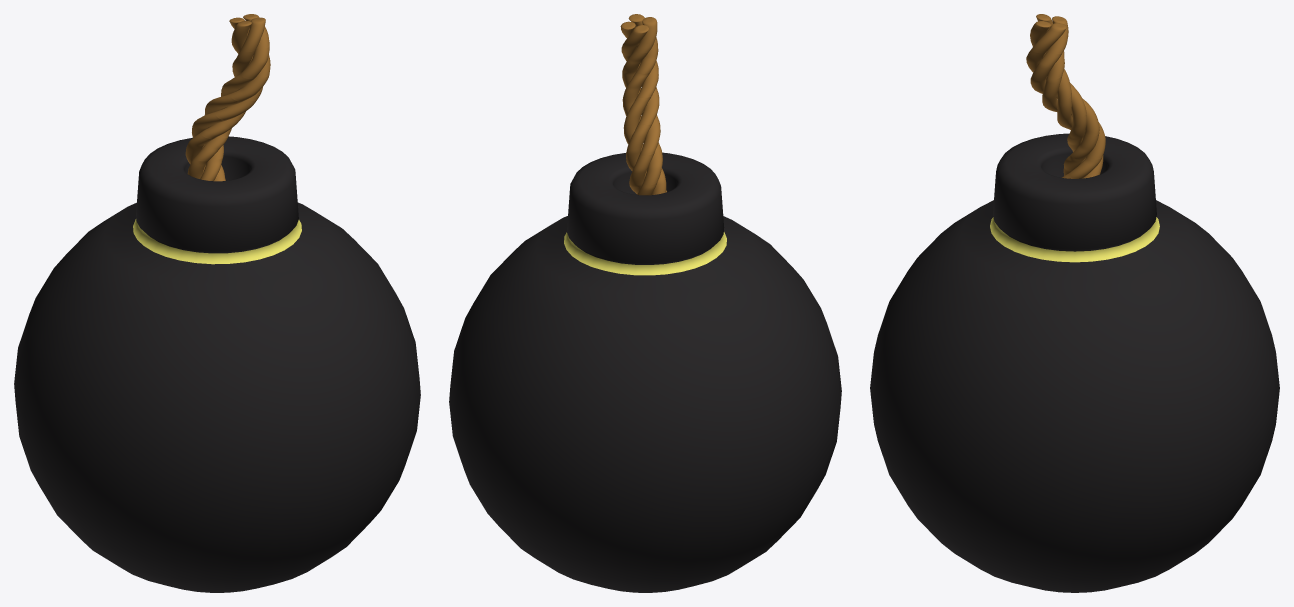
Rendered from bomb.fbx.
3 renders of one model, left to right at view 1: azimuth 30°, elevation 25°; view 2: azimuth 150°, elevation 25°; view 3: azimuth 270°, elevation 25°, orthographic. The views are drawn at different scales.
Visible parts, largest first — view 1: Shell, Wick; view 2: Shell, Wick; view 3: Shell, Wick.
Part boxes in pixels (bbox=[...]): Shell: bbox=[14, 136, 420, 592]; Wick: bbox=[185, 14, 270, 181]; Shell: bbox=[449, 152, 841, 592]; Wick: bbox=[620, 14, 666, 195]; Shell: bbox=[870, 133, 1279, 592]; Wick: bbox=[1026, 14, 1105, 178].
Bounding box in the file's own units: 2 × 3.04 × 2.
